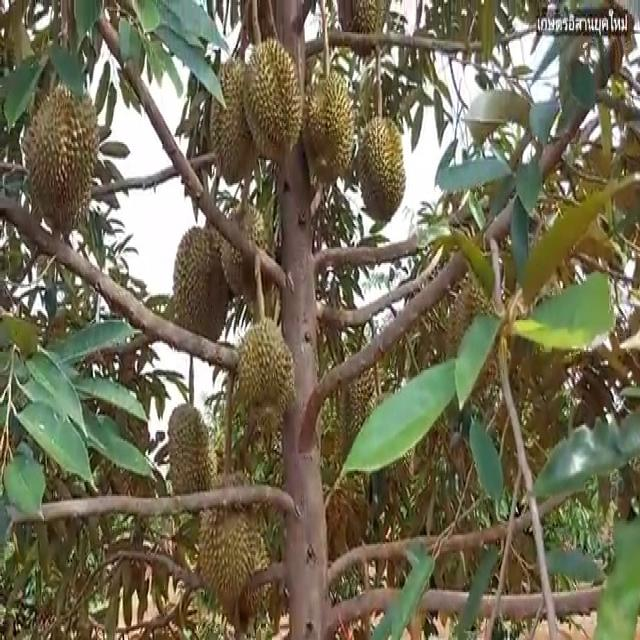durian: (19, 79, 102, 239), (195, 501, 274, 619), (237, 38, 303, 169), (207, 51, 265, 198), (233, 314, 298, 435), (296, 71, 360, 193), (162, 400, 224, 520), (356, 109, 407, 228), (336, 0, 398, 57)
